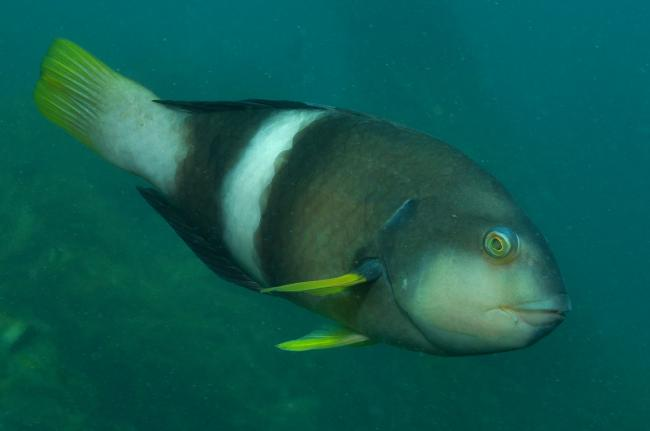fish: (33, 37, 573, 356)
